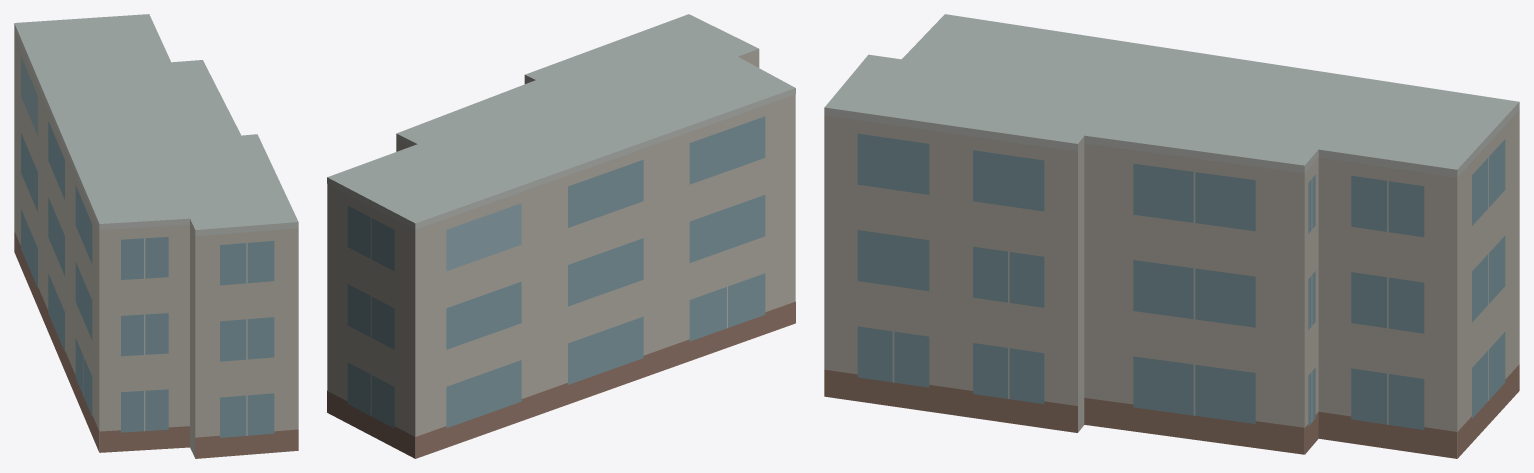
File: survey-upis-32716651.glb
3 renders of one model, left to right at view 1: azimuth 30°, elevation 25°; view 2: azimuth 150°, elevation 25°; view 3: azimuth 270°, elevation 25°, orthographic. The views are drawn at different scales.
Visible parts, largest first — view 1: survey-upis-32716651.tmp; view 2: survey-upis-32716651.tmp; view 3: survey-upis-32716651.tmp.
Boxes of the visible parts, x1,y1,x2,y2 form: survey-upis-32716651.tmp: (14,14,298,458); survey-upis-32716651.tmp: (327,14,795,458); survey-upis-32716651.tmp: (824,14,1519,458).
Bounding box in the file's own units: 10.58 × 9.15 × 19.95.
